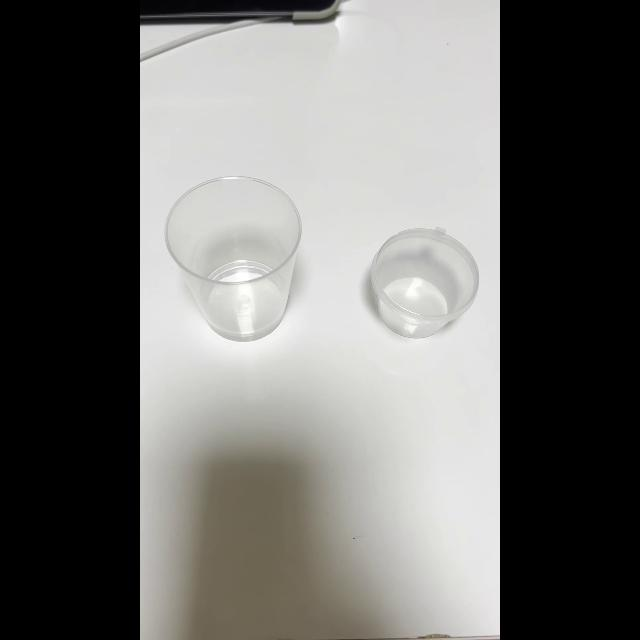clean: (174, 173, 296, 334), (372, 223, 482, 341)
